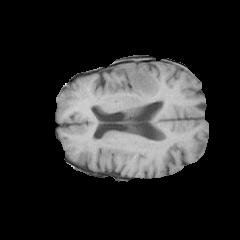glioma: (122, 63, 159, 103)
